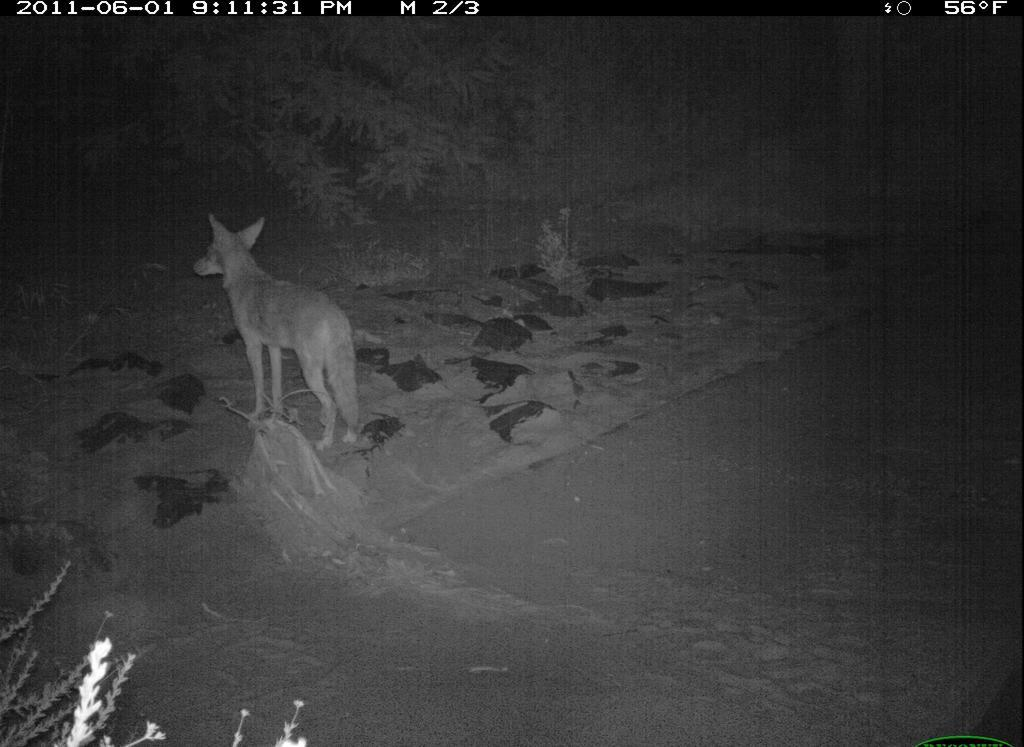coyote: (189, 208, 368, 449)
